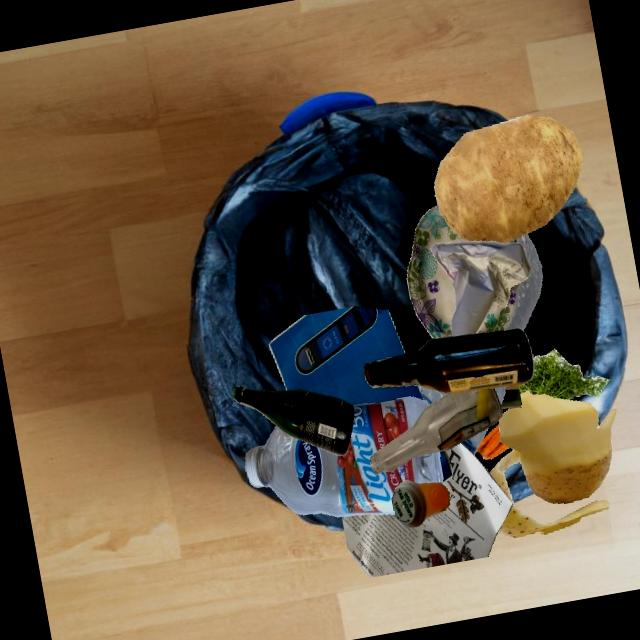biowaste: (434, 115, 583, 243), (489, 390, 616, 537), (518, 348, 609, 399)
cardboard: (407, 204, 463, 338), (440, 212, 513, 298)
glass: (369, 387, 502, 474), (363, 328, 534, 393), (232, 386, 354, 455), (500, 384, 521, 408)
paper: (342, 442, 512, 577), (269, 306, 423, 404), (430, 240, 531, 336)
plastic: (244, 396, 442, 516), (504, 233, 542, 331), (430, 396, 500, 441), (391, 480, 449, 527)
